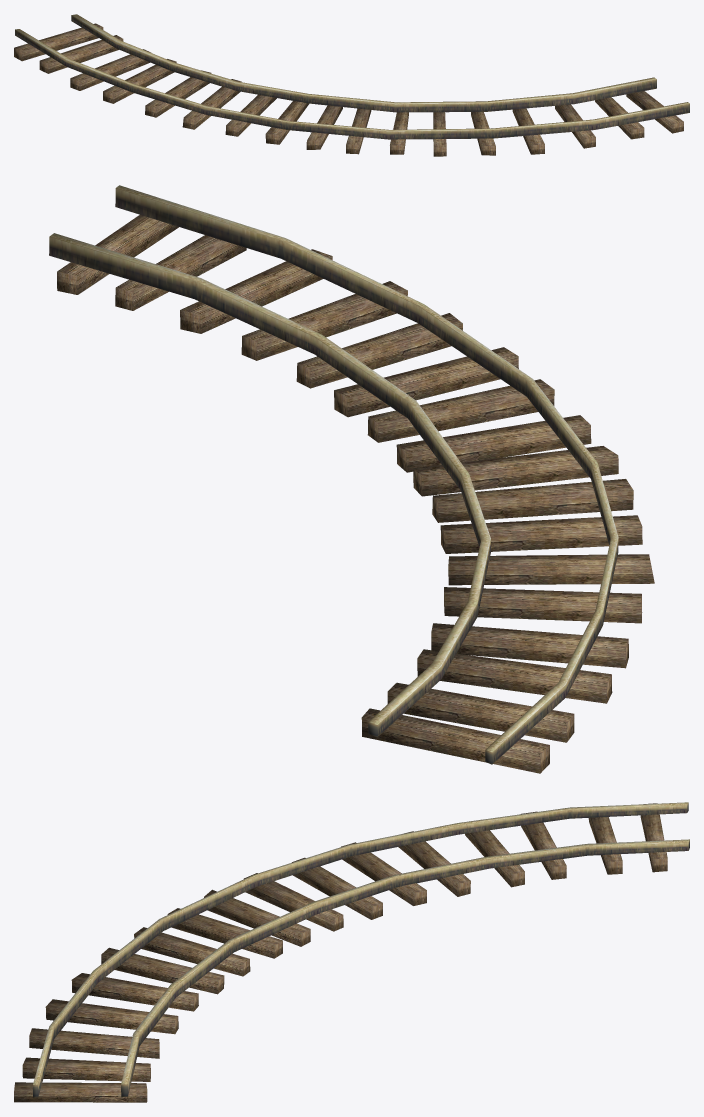
The model's file is S_Build_West078.FBX.
3 views of the same model, one above another, from view 1: azimuth 30°, elevation 25°; view 2: azimuth 150°, elevation 25°; view 3: azimuth 270°, elevation 25° (orthographic). The views are drawn at different scales.
Parts seen in each view (by area): view 1: S_Build_West078; view 2: S_Build_West078; view 3: S_Build_West078.
Boxes of the visible parts, x1,y1,x2,y2 form: S_Build_West078: (14, 14, 689, 156); S_Build_West078: (49, 185, 654, 773); S_Build_West078: (14, 802, 689, 1102).
Bounding box in the file's own units: 1282 × 1261 × 56.07.
